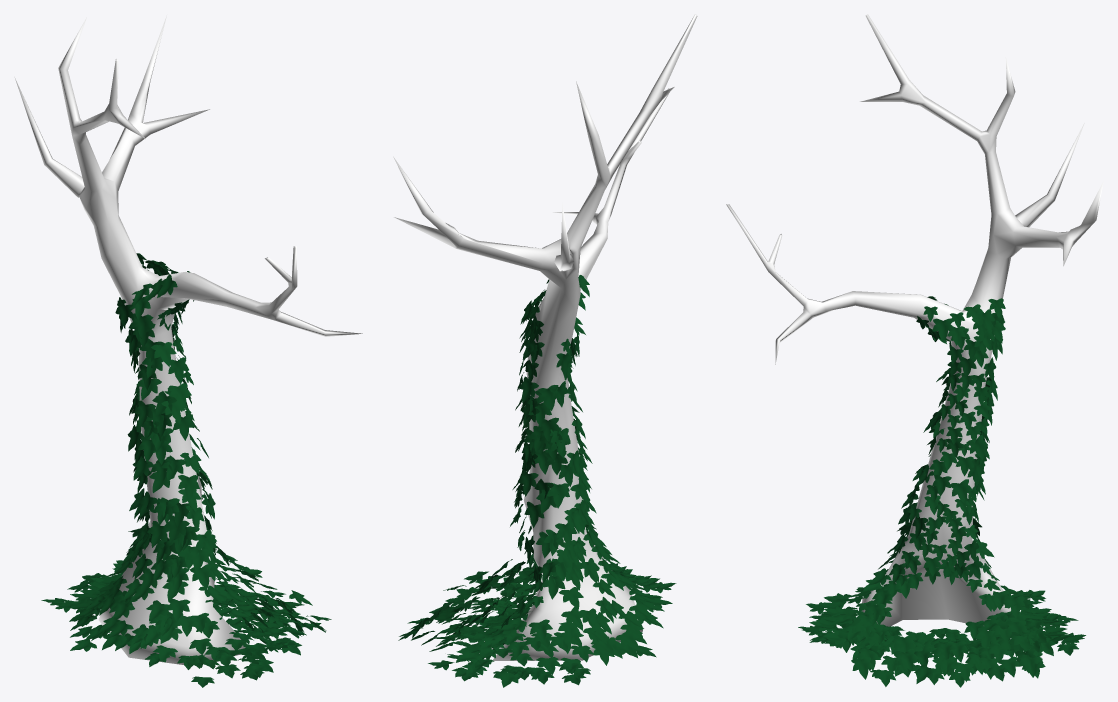
Rendered from nesttree1join.glb.
3 renders of one model, left to right at view 1: azimuth 30°, elevation 25°; view 2: azimuth 150°, elevation 25°; view 3: azimuth 270°, elevation 25°, orthographic. The views are drawn at different scales.
Parts seen in each view (by area): view 1: leaf.198; view 2: leaf.198; view 3: leaf.198.
Boxes of the visible parts, x1,y1,x2,y2 form: leaf.198: (14, 15, 362, 687); leaf.198: (393, 14, 697, 687); leaf.198: (726, 14, 1103, 687).
Bounding box in the file's own units: 2.27 × 5.9 × 3.52.
